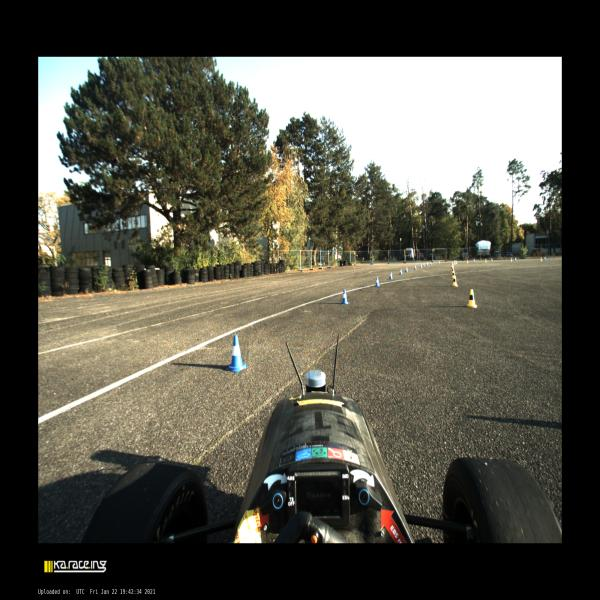blue_cone: (226, 335, 248, 371), (341, 289, 349, 304), (375, 277, 380, 287), (399, 268, 403, 275), (389, 272, 392, 279), (405, 266, 408, 272), (414, 265, 417, 270), (490, 258, 493, 262), (420, 263, 422, 268), (544, 256, 546, 260), (514, 257, 516, 261), (422, 263, 424, 266), (426, 262, 428, 265), (430, 262, 432, 265), (438, 261, 440, 264), (474, 259, 476, 262)
yellow_cone: (467, 289, 477, 307), (452, 275, 458, 286), (452, 270, 456, 278), (451, 261, 454, 267), (510, 257, 513, 262), (452, 267, 454, 273), (466, 260, 469, 263), (540, 257, 542, 261), (456, 260, 458, 264), (451, 265, 452, 271), (454, 261, 455, 265), (485, 259, 486, 262)
